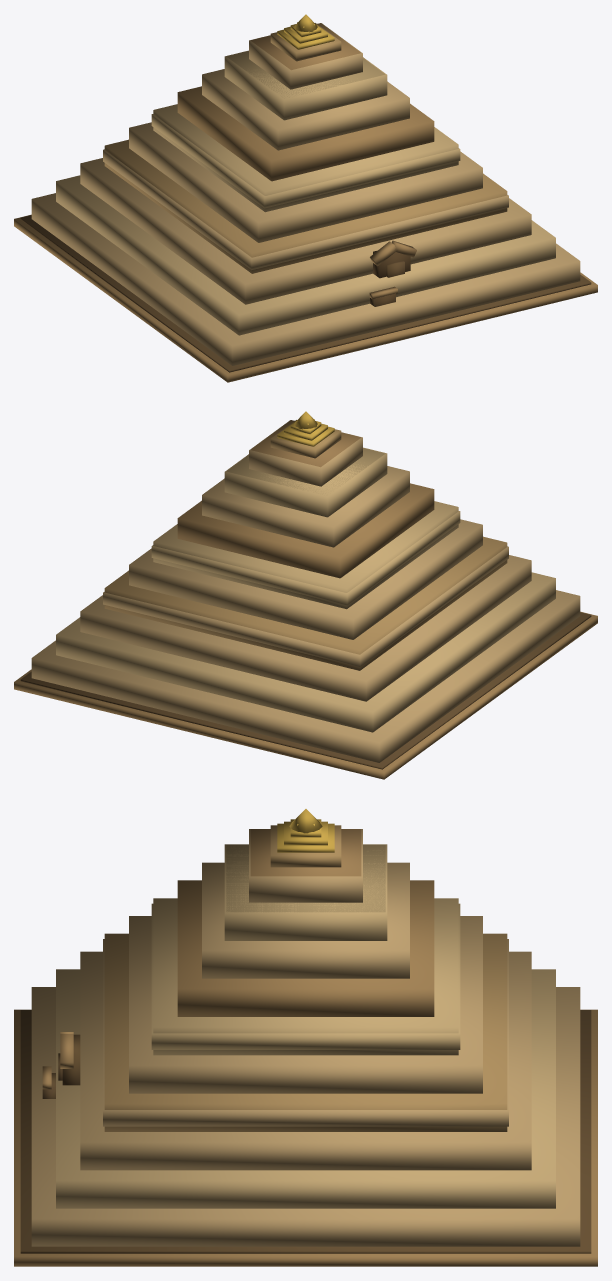
Rendered from great_pyramid.glb.
The picture shows the model from 3 angles, top to bottom: view 1: azimuth 30°, elevation 25°; view 2: azimuth 150°, elevation 25°; view 3: azimuth 270°, elevation 25°; orthographic projection. The views are drawn at different scales.
Parts seen in each view (by area): view 1: great_pyramid; view 2: great_pyramid; view 3: great_pyramid.
Boxes of the visible parts, bbox=[...] form: great_pyramid: bbox=[14, 14, 597, 382]; great_pyramid: bbox=[14, 411, 597, 779]; great_pyramid: bbox=[14, 809, 597, 1266].
Size of the model in its own units: 26.4 by 16.7 by 26.4.
